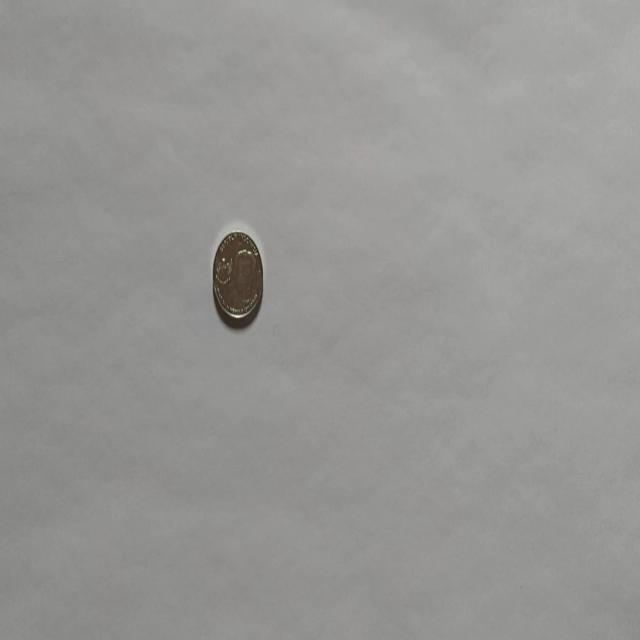seratus rupiah: (212, 228, 264, 328)
